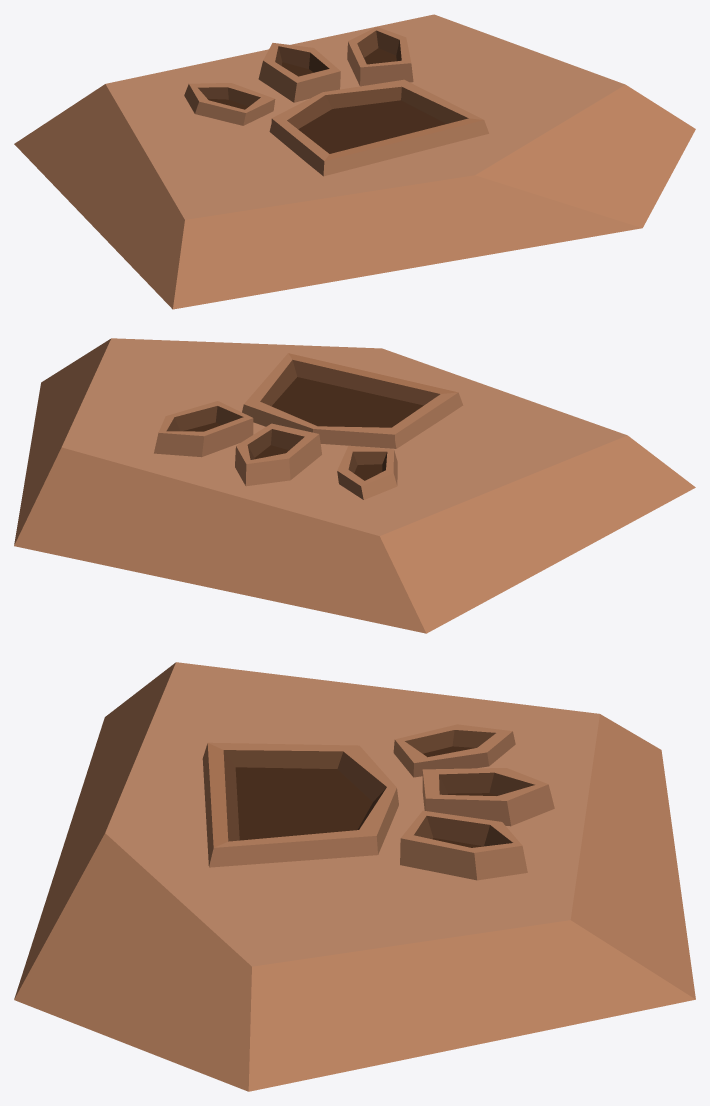
The model's file is Footprint_Dirt.fbx.
3 views of the same model, one above another, from view 1: azimuth 30°, elevation 25°; view 2: azimuth 150°, elevation 25°; view 3: azimuth 270°, elevation 25° (orthographic). The views are drawn at different scales.
Visible parts, largest first — view 1: Footprint_Dirt; view 2: Footprint_Dirt; view 3: Footprint_Dirt.
Boxes of the visible parts, x1,y1,x2,y2 form: Footprint_Dirt: (14,14,695,309); Footprint_Dirt: (14,338,695,633); Footprint_Dirt: (14,662,695,1091).
Size of the model in its own units: 0.1921 by 0.0254 by 0.1478.
